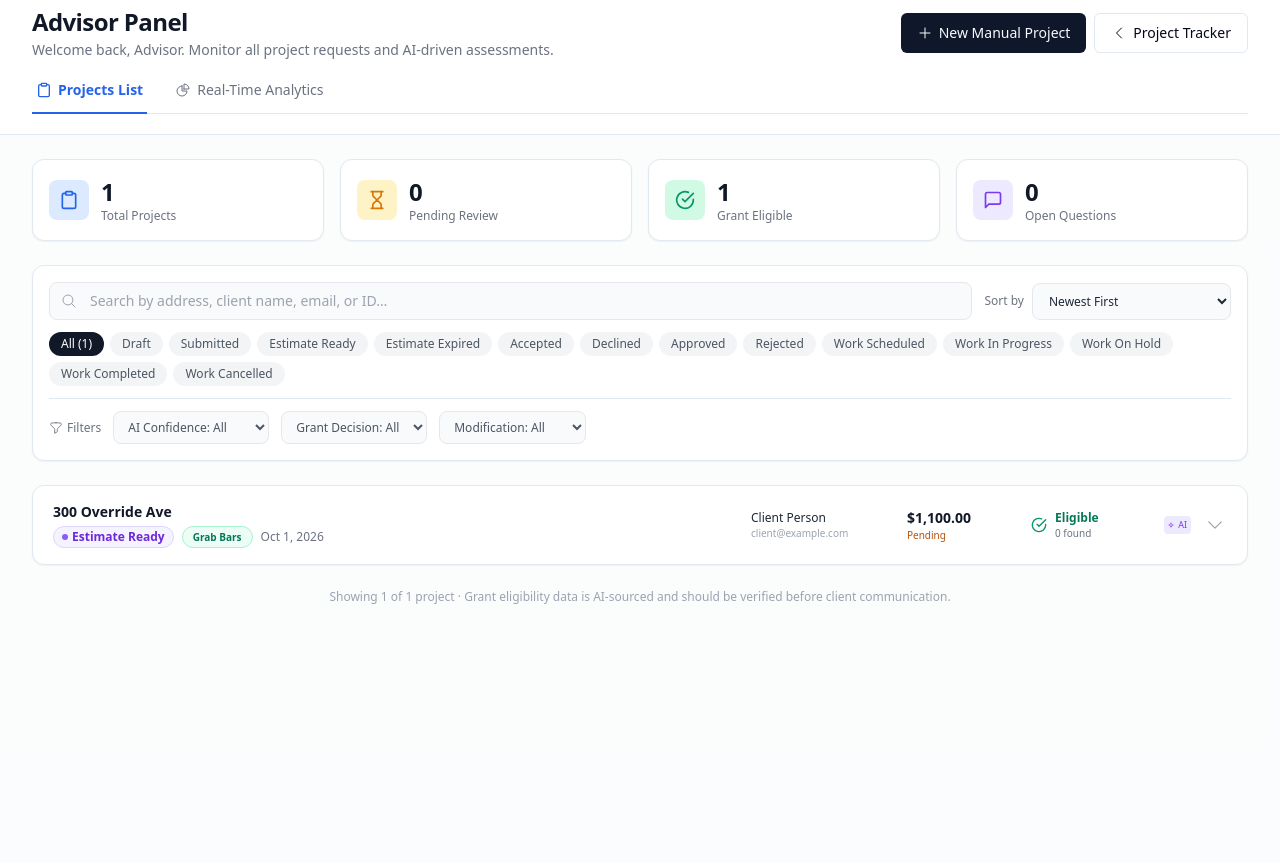
Scenario: Admin dashboard override attribution › shows the assessment label in the AI Grant Discovery panel
The image size is (1280, 863).
Click the text "300 Override Ave" at (112,512), box top-left (53, 502), bottom-right (172, 521)
(page scrolled)
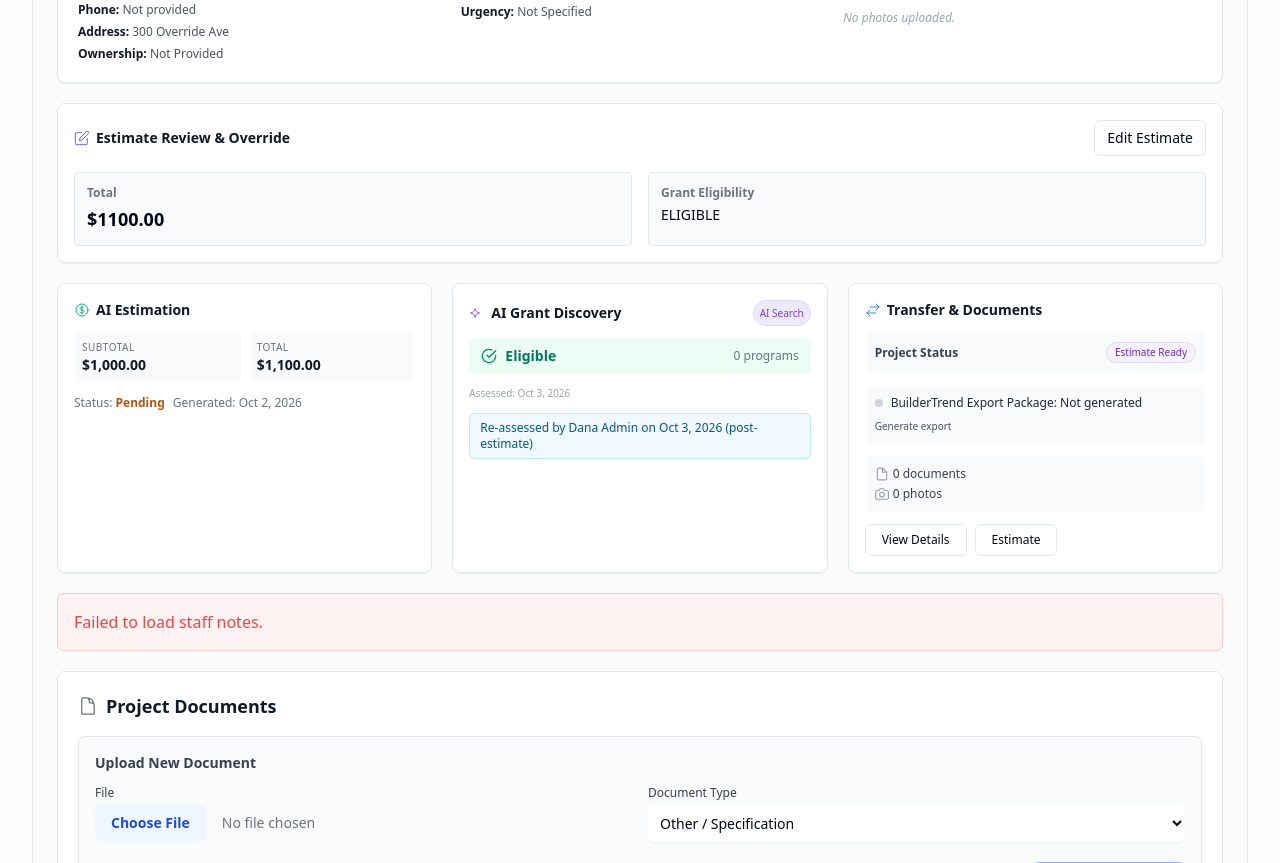
Now the text "Re-assessed by Dana Admin on Oct 3, 2026 (post-estimate)" is shown, box top-left (469, 413), bottom-right (811, 459)
